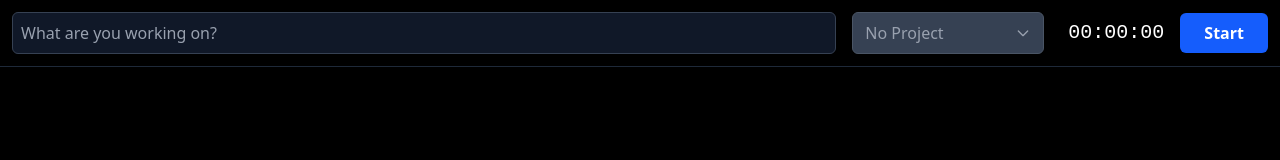
Test: LiveTimer.vue › Suggestions Logic › filters suggestions based on input
Type "Task A" into the field with placeholder "What are you working on?" at (424, 33), box [12, 12, 836, 54]
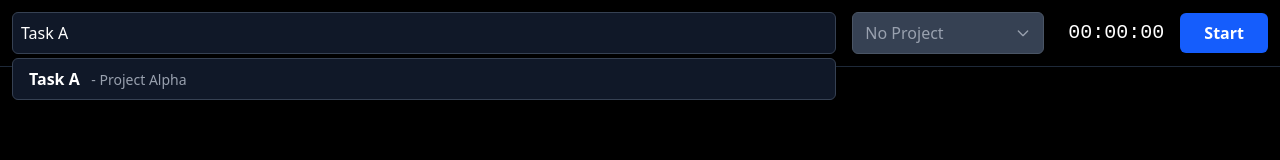
Now the list item "Task A - Project Alpha" is shown, box [29, 68, 187, 90]
Now the number of list items is 1, box [29, 68, 187, 90]
